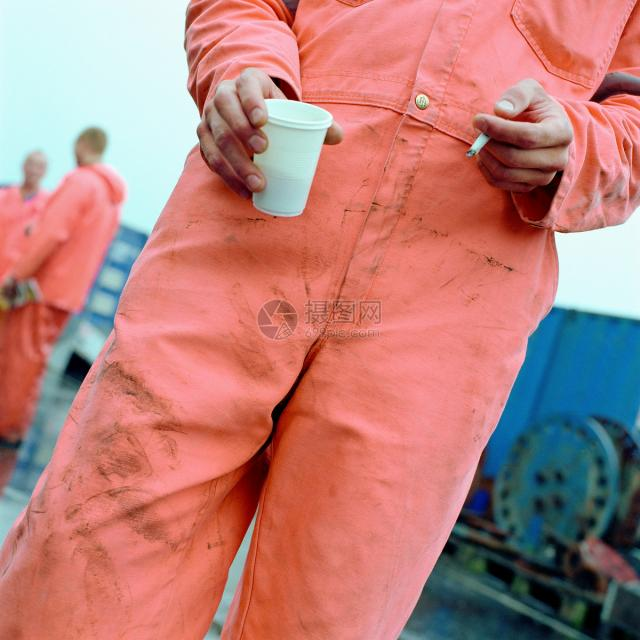cigarette: (462, 106, 501, 170)
